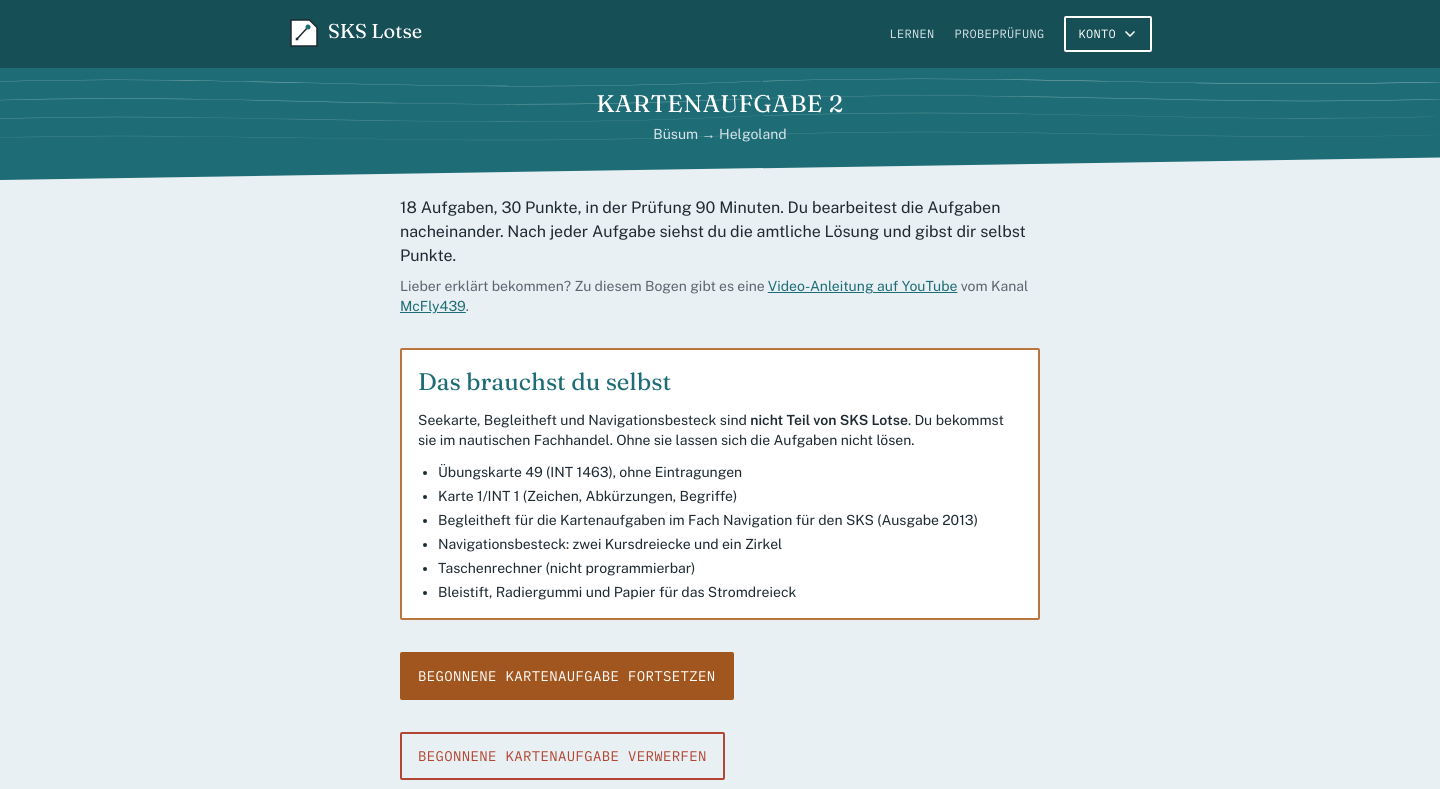
Test case: ChartExercisePage › discards an open run after a confirmation, then offers a fresh start
Click the button "Begonnene Kartenaufgabe verwerfen" at (562, 756), box [400, 732, 725, 780]
(page scrolled)
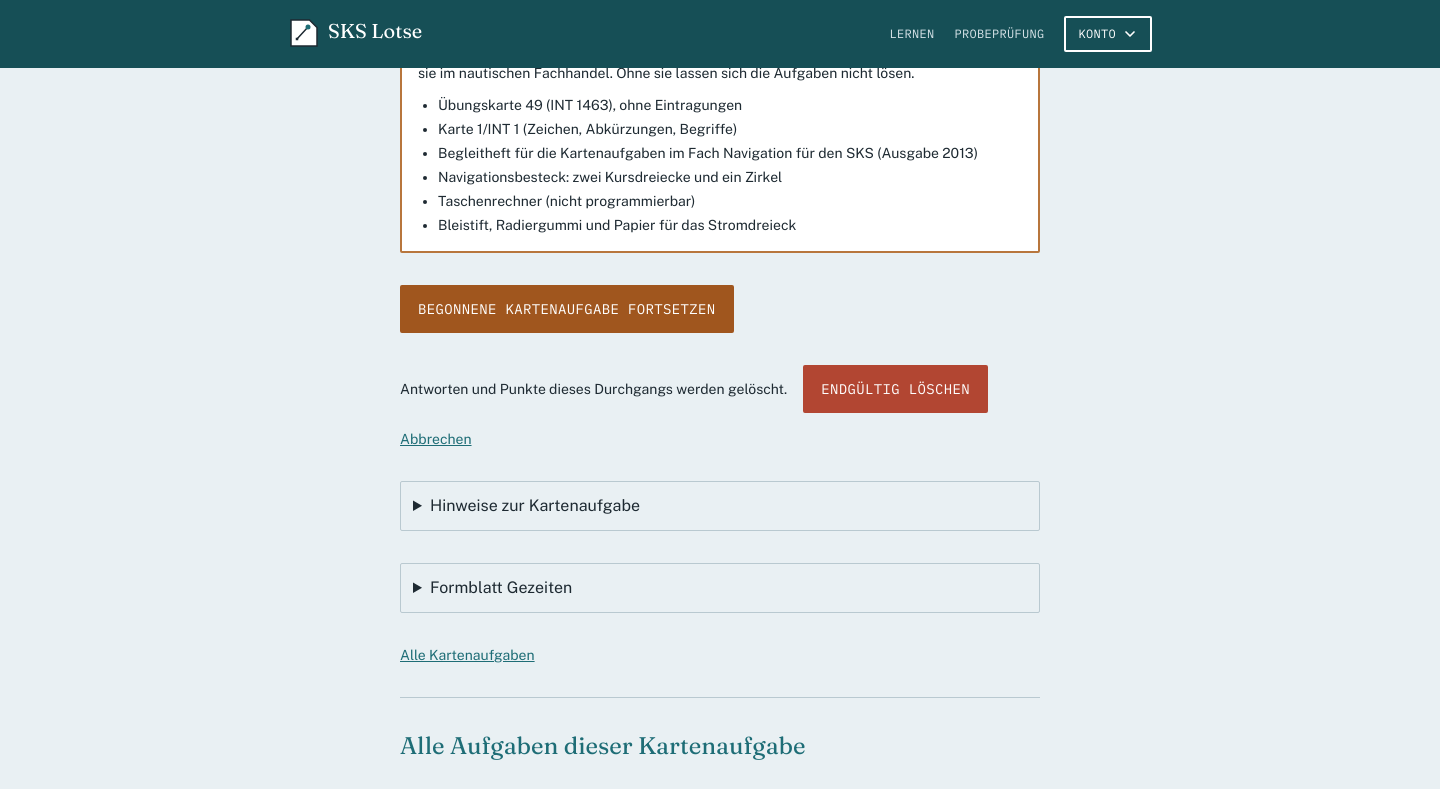
Click the button "Abbrechen" at (436, 439), box [400, 429, 472, 449]
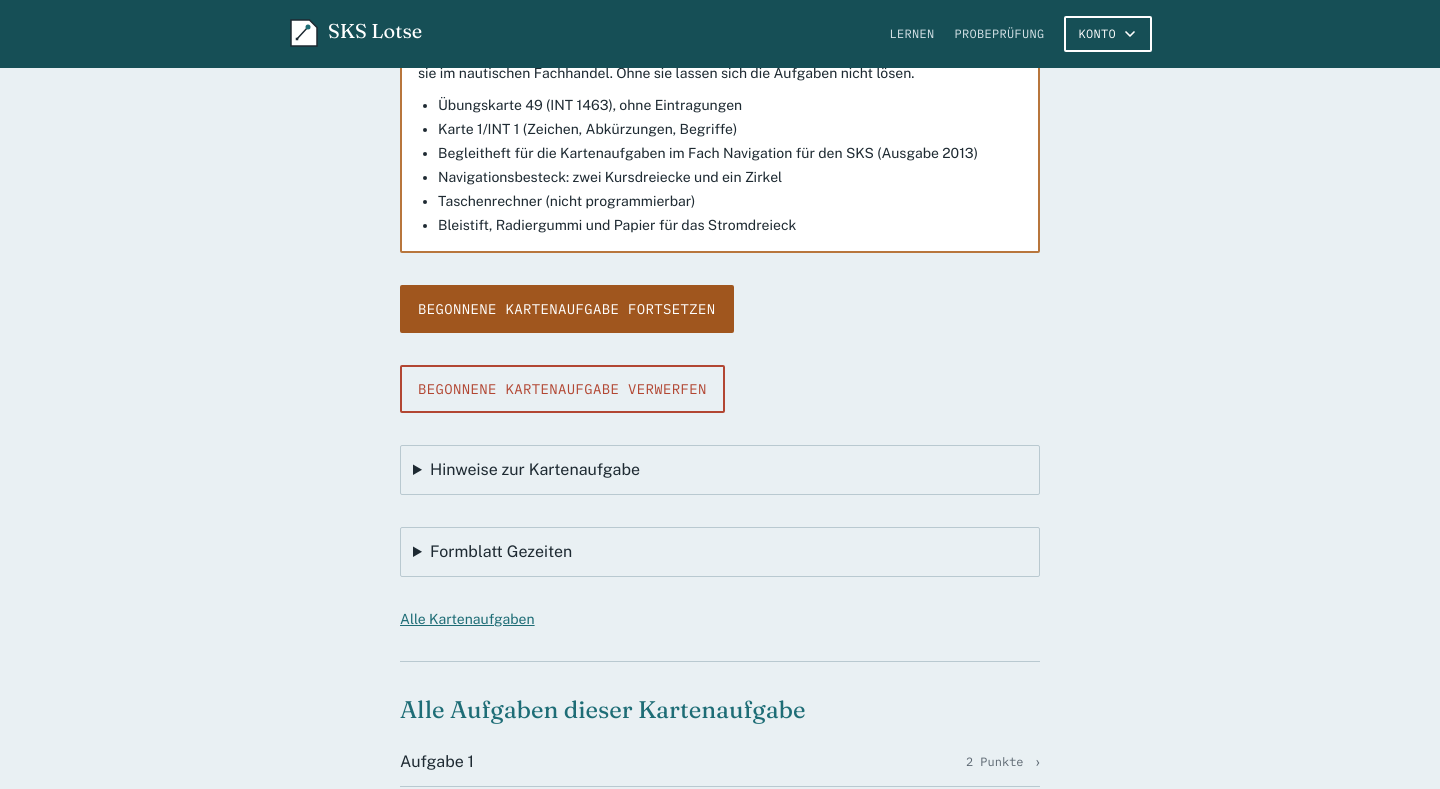
Click the button "Begonnene Kartenaufgabe verwerfen" at (562, 389), box [400, 365, 725, 413]
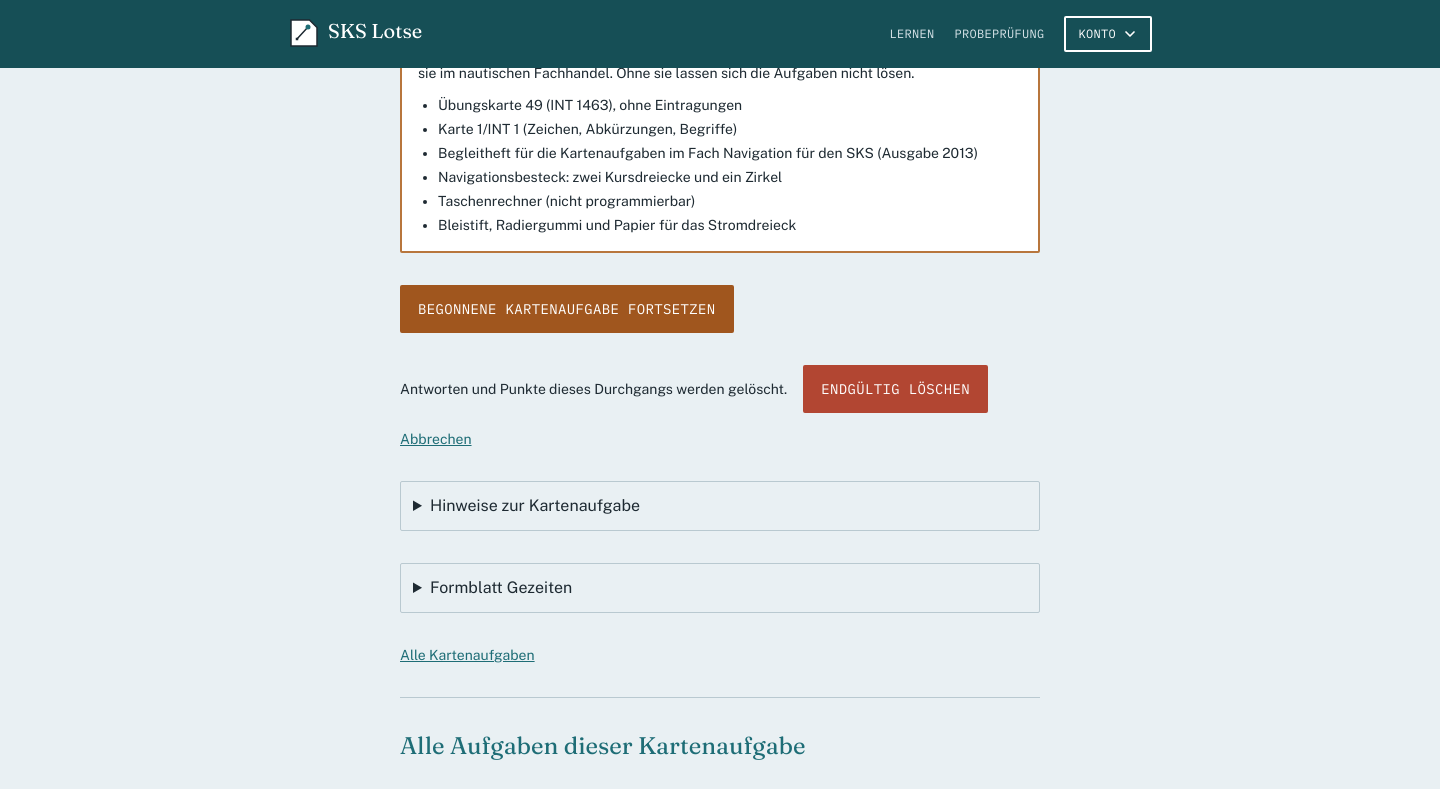
Click the button "Endgültig löschen" at (896, 389), box [803, 365, 988, 413]
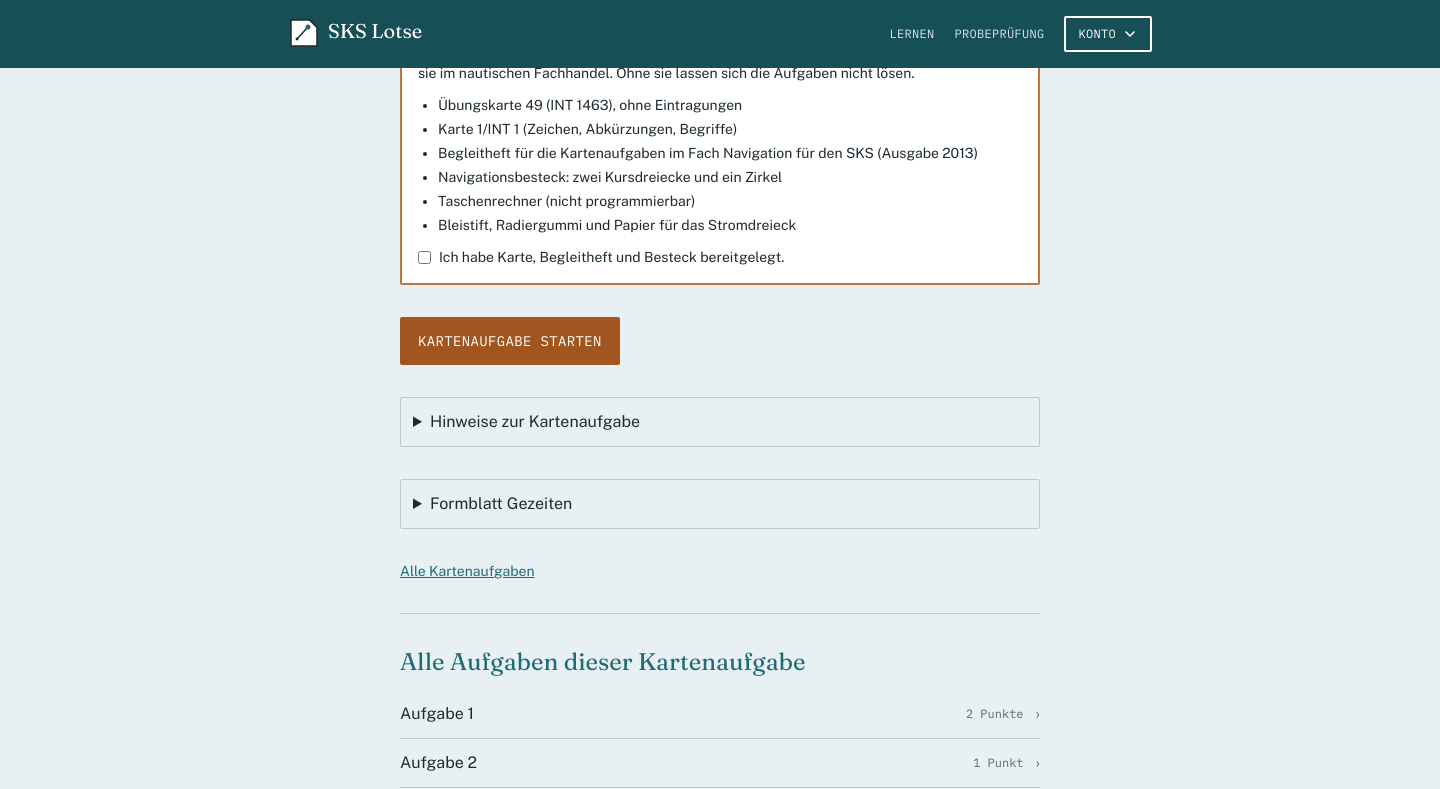
Result: the button "Kartenaufgabe starten" is shown at [400, 317, 620, 365]
Result: the link "Begonnene Kartenaufgabe fortsetzen" is gone
